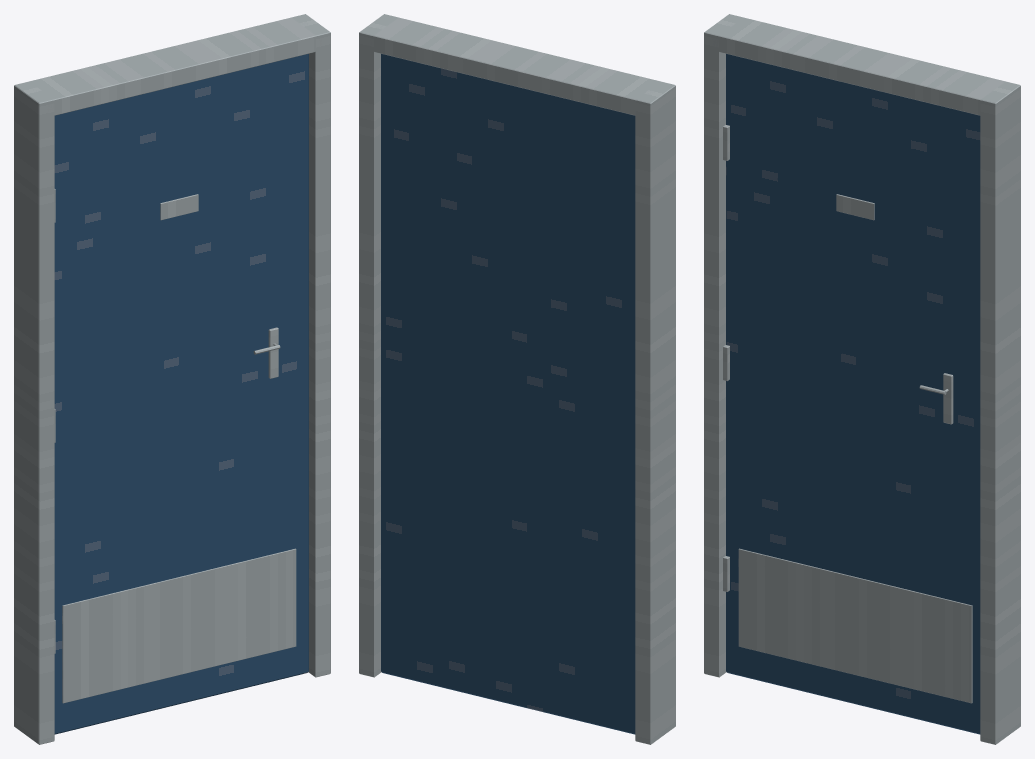
File: pool_service_door.glb
The picture shows the model from 3 angles, left to right: view 1: azimuth 30°, elevation 25°; view 2: azimuth 150°, elevation 25°; view 3: azimuth 330°, elevation 25°; orthographic projection.
Visible parts, largest first — view 1: pool_pool_service_door; view 2: pool_pool_service_door; view 3: pool_pool_service_door.
Boxes of the visible parts, x1,y1,x2,y2 form: pool_pool_service_door: (14,14,330,744); pool_pool_service_door: (359,14,675,744); pool_pool_service_door: (704,14,1020,744).
Bounding box in the file's own units: 1 × 2.1 × 0.152.
Materials: 2 (2 with a texture image).
